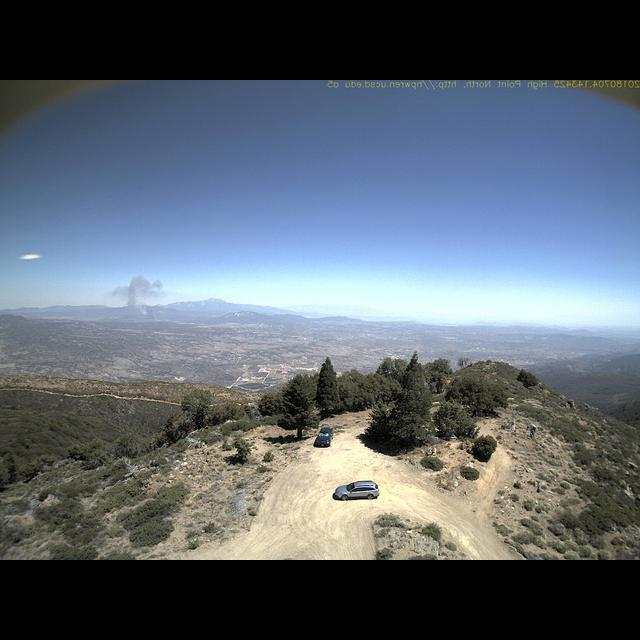Smoke: (106, 271, 168, 324)
